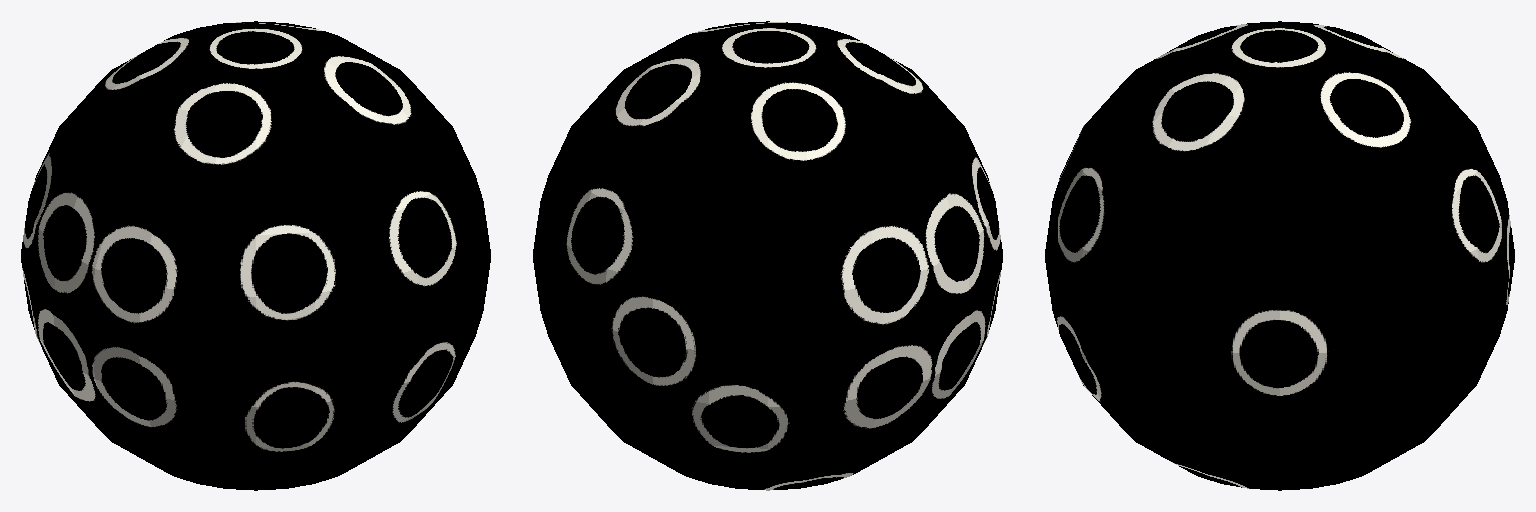
3 renders of one model, left to right at view 1: azimuth 30°, elevation 25°; view 2: azimuth 150°, elevation 25°; view 3: azimuth 270°, elevation 25°, orthographic.
Visible parts, largest first — view 1: Sphere_None; view 2: Sphere_None; view 3: Sphere_None.
Boxes of the visible parts, x1=… form: Sphere_None: x1=21, y1=21, x2=490, y2=490; Sphere_None: x1=533, y1=21, x2=1002, y2=490; Sphere_None: x1=1045, y1=21, x2=1514, y2=490.
Bounding box in the file's own units: 2 × 2 × 2.
Materials: 1 (1 with a texture image).